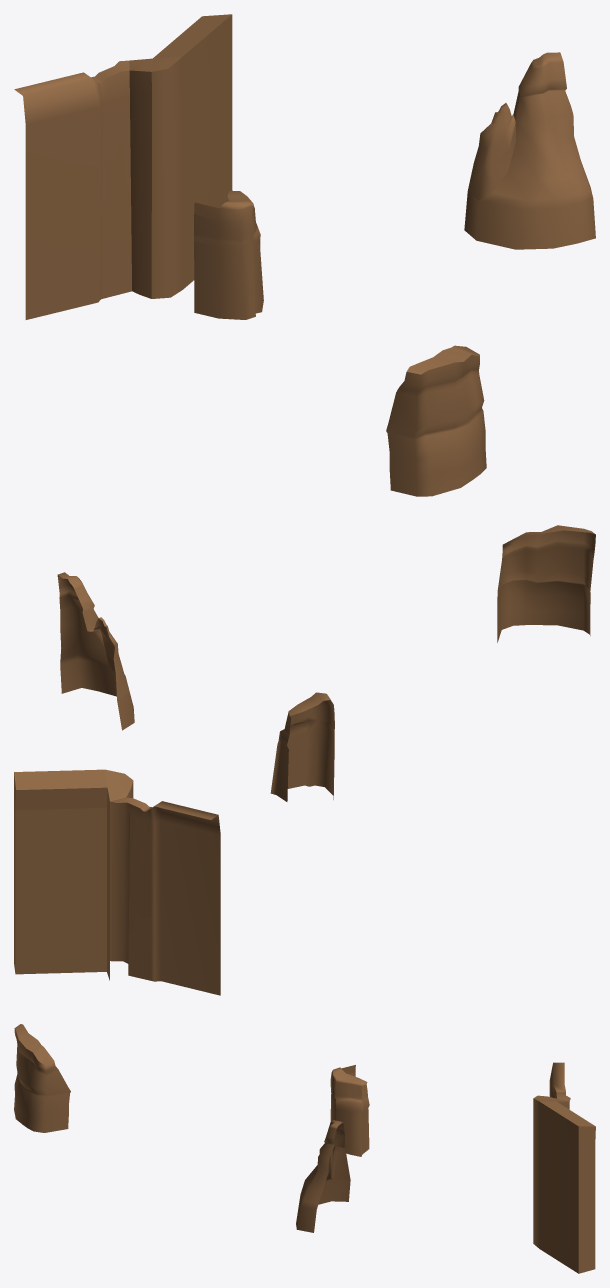
File: MidGroundMountains.fbx
3 views of the same model, one above another, from view 1: azimuth 30°, elevation 25°; view 2: azimuth 150°, elevation 25°; view 3: azimuth 270°, elevation 25° (orthographic). The views are drawn at different scales.
Visible parts, largest first — view 1: FarMtnRidge, RMtnBack, LMtnMid, BackLMnt; view 2: FarMtnRidge, LMtnMid, RMtnBack, BackLMnt; view 3: FarMtnRidge, LMtnMid, RMtnBack, BackLMnt.
Part boxes in pixels (box(x1,y1,x2,y2)): FarMtnRidge: box(14, 14, 232, 319); RMtnBack: box(464, 52, 595, 249); LMtnMid: box(386, 345, 486, 496); BackLMnt: box(194, 190, 263, 319); FarMtnRidge: box(14, 769, 220, 995); LMtnMid: box(497, 525, 595, 642); RMtnBack: box(57, 572, 134, 730); BackLMnt: box(270, 692, 334, 801); FarMtnRidge: box(533, 1062, 595, 1273); LMtnMid: box(14, 1024, 70, 1132); RMtnBack: box(296, 1120, 350, 1232); BackLMnt: box(330, 1065, 369, 1156).
Size of the model in its own units: 443 by 299 by 830.
